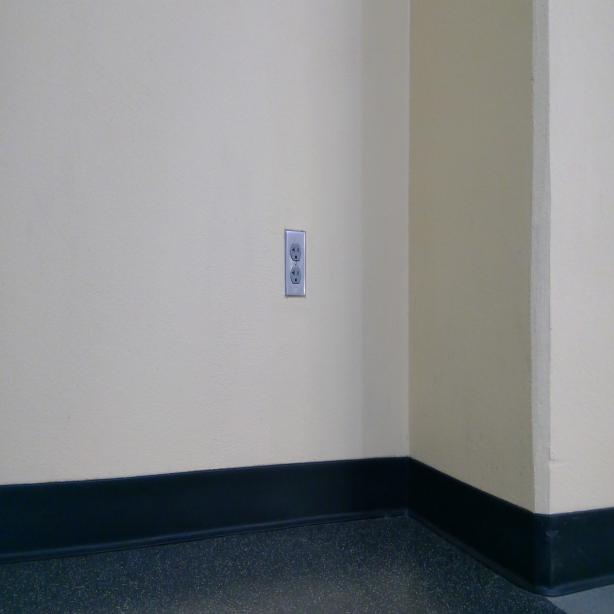typeb: (289, 264, 301, 287), (289, 245, 301, 261)
